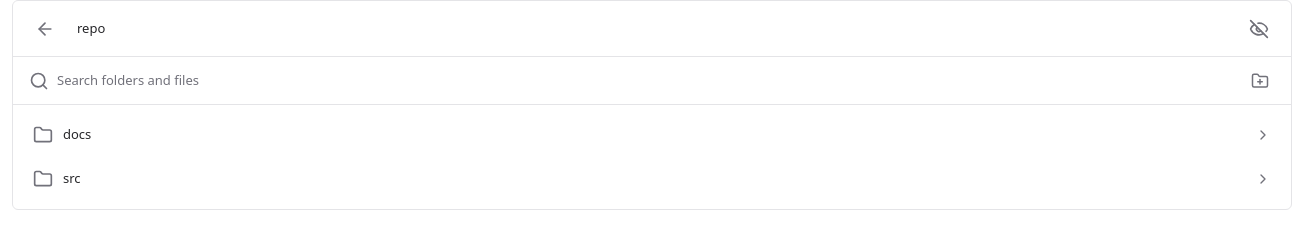
WorkspacePicker navigation status › replaces stale placeholder rows with a busy loading state
Click the button with test id "workspace-picker-entry-src". click: [43, 179]
box: [13,157,1291,201]
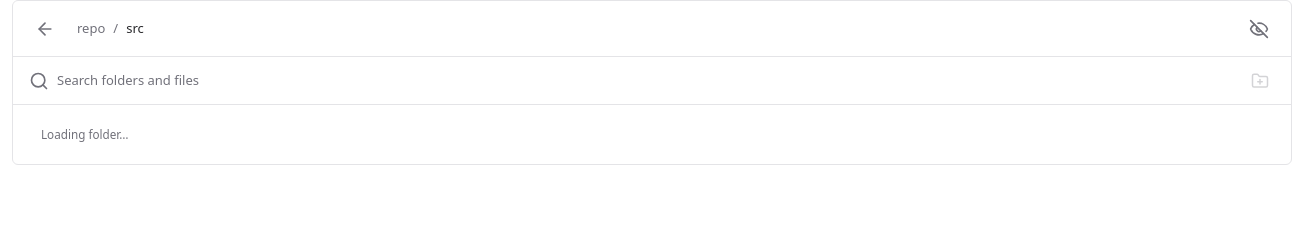
Now the button with test id "workspace-picker-entry-docs" is gone
Now the button with test id "workspace-picker-new-folder" is disabled, box [1245,66,1275,96]
